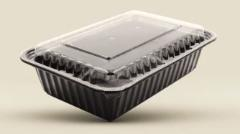plastic: (19, 10, 216, 122)
